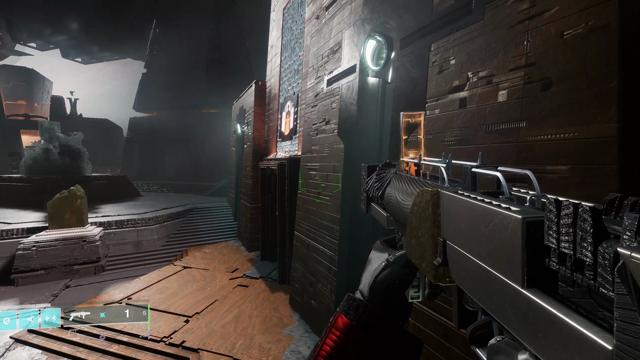worship: (281, 101, 294, 135)
